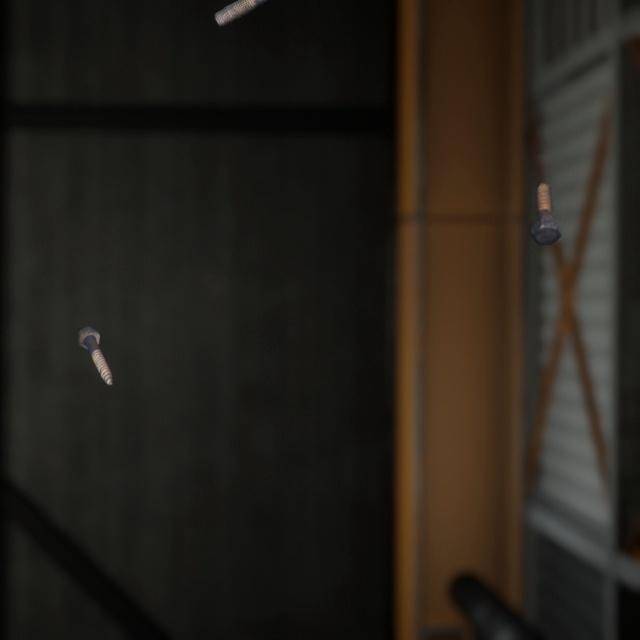bolt: (73, 303, 117, 371), (526, 164, 565, 234), (210, 0, 263, 24)
